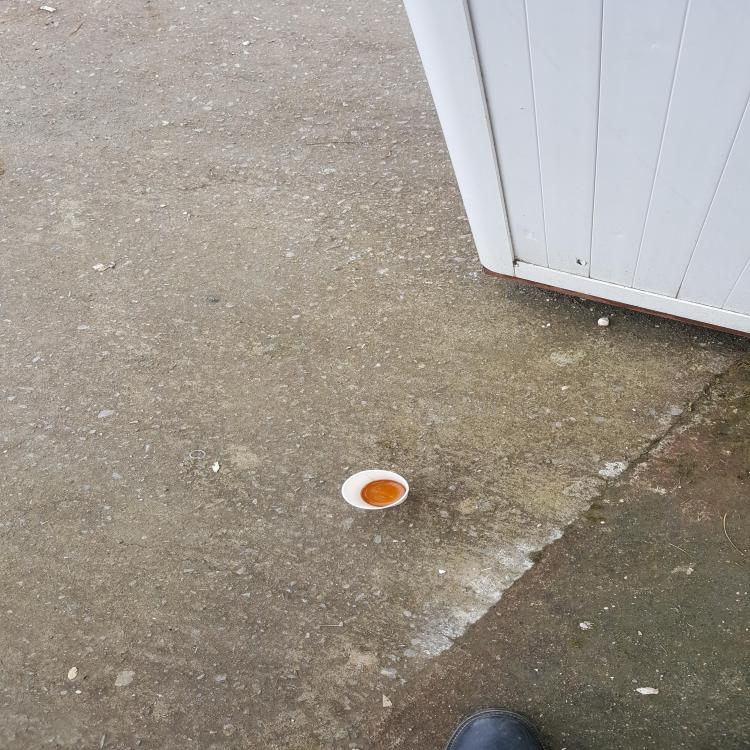Cigarette: (41, 6, 57, 12)
Other plastic wrapper: (189, 450, 206, 459)
Paper cup: (341, 470, 409, 509)
